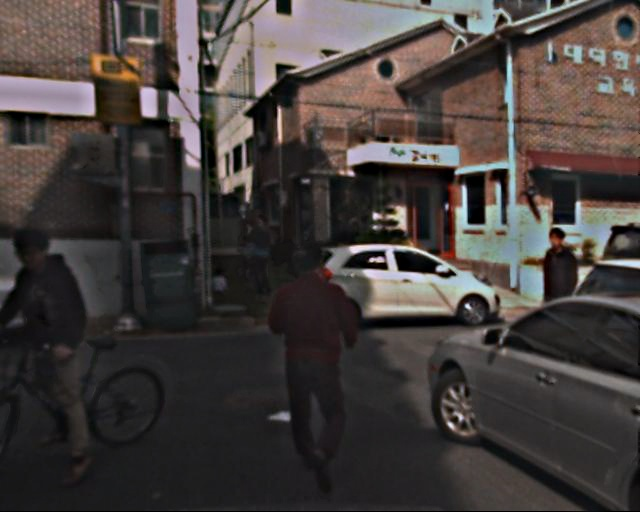person: (5, 219, 114, 480), (264, 242, 367, 493), (521, 229, 596, 391), (247, 216, 280, 295), (235, 218, 261, 283), (214, 266, 233, 308)
